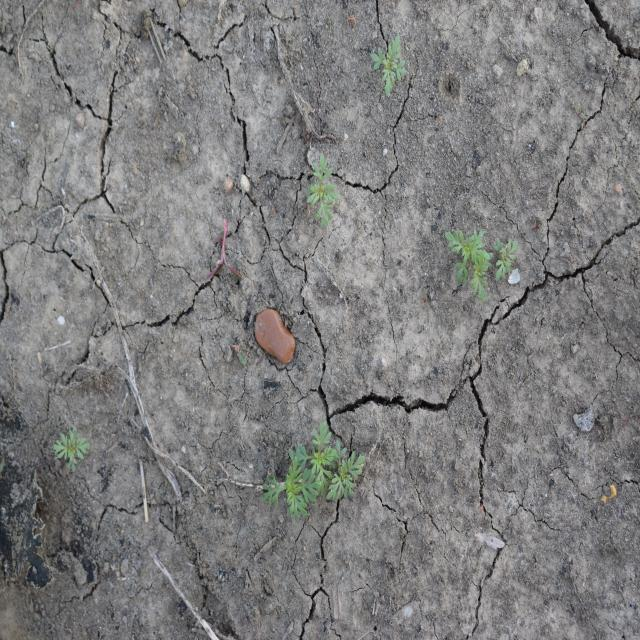Ragweed: (260, 421, 367, 524), (444, 227, 494, 304), (305, 152, 340, 231), (369, 34, 408, 98), (51, 422, 94, 473), (493, 236, 519, 283)
